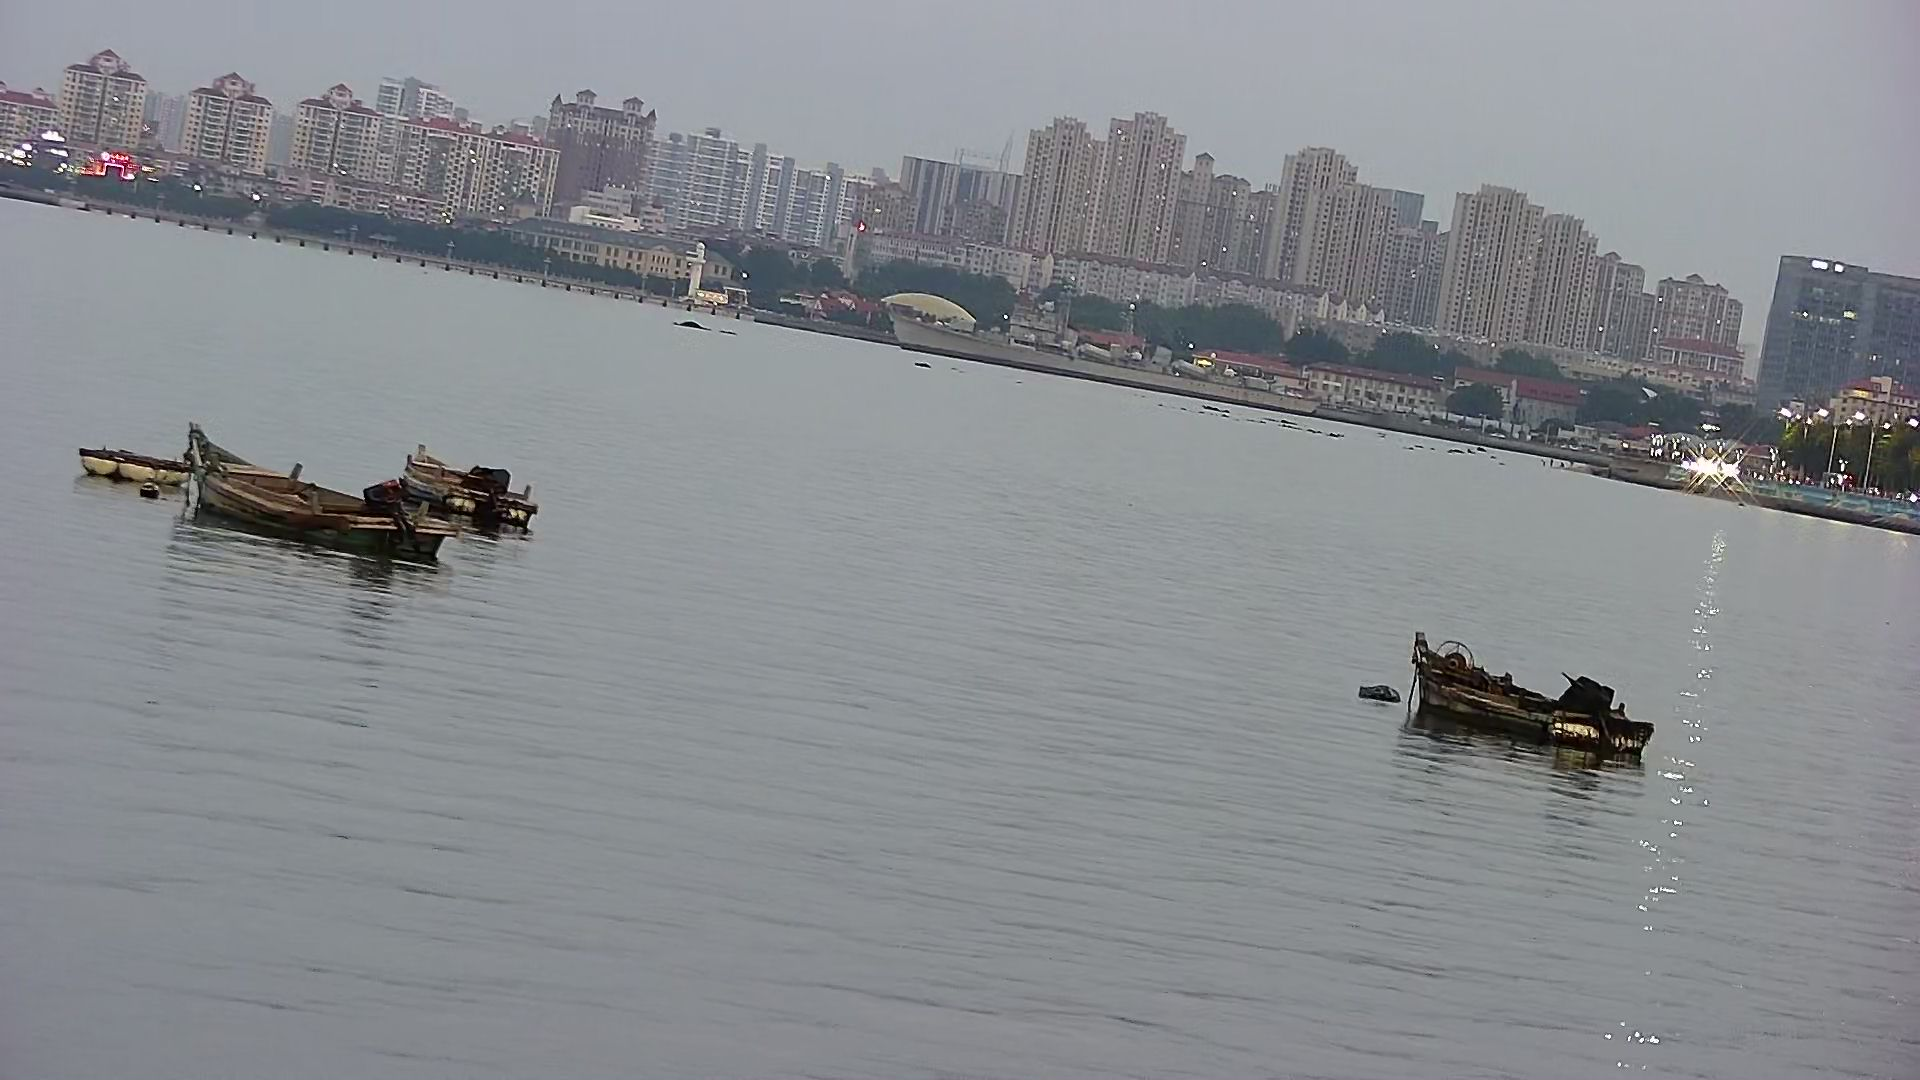boat: (1371, 622, 1698, 800), (195, 436, 440, 567), (375, 434, 549, 550), (80, 402, 202, 502)
rock: (1338, 669, 1414, 720)
